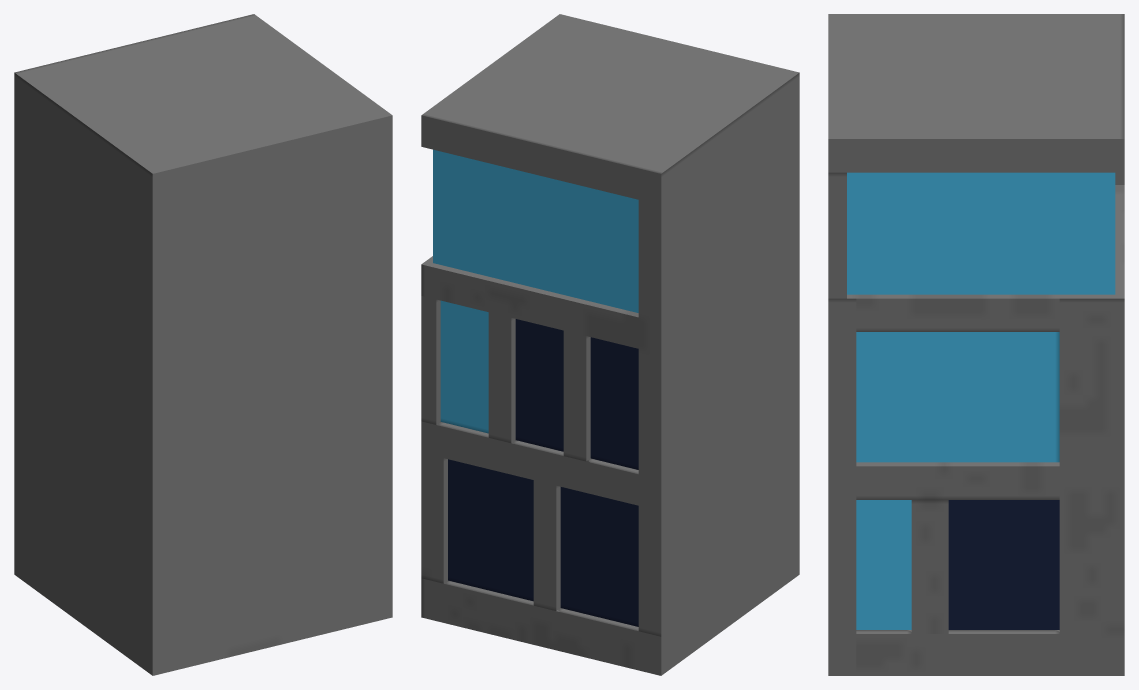
Rendered from BOK_BIG_OKNO.dae.
The picture shows the model from 3 angles, left to right: view 1: azimuth 30°, elevation 25°; view 2: azimuth 150°, elevation 25°; view 3: azimuth 270°, elevation 25°; orthographic projection. The views are drawn at different scales.
Parts seen in each view (by area): view 1: Content; view 2: Content; view 3: Content.
Part boxes in pixels (box(x1,y1,x2,y2)): Content: box(14, 14, 392, 675); Content: box(421, 14, 799, 675); Content: box(828, 14, 1124, 675).
Bounding box in the file's own units: 32 × 64 × 32.
1 material, 1 textured.
